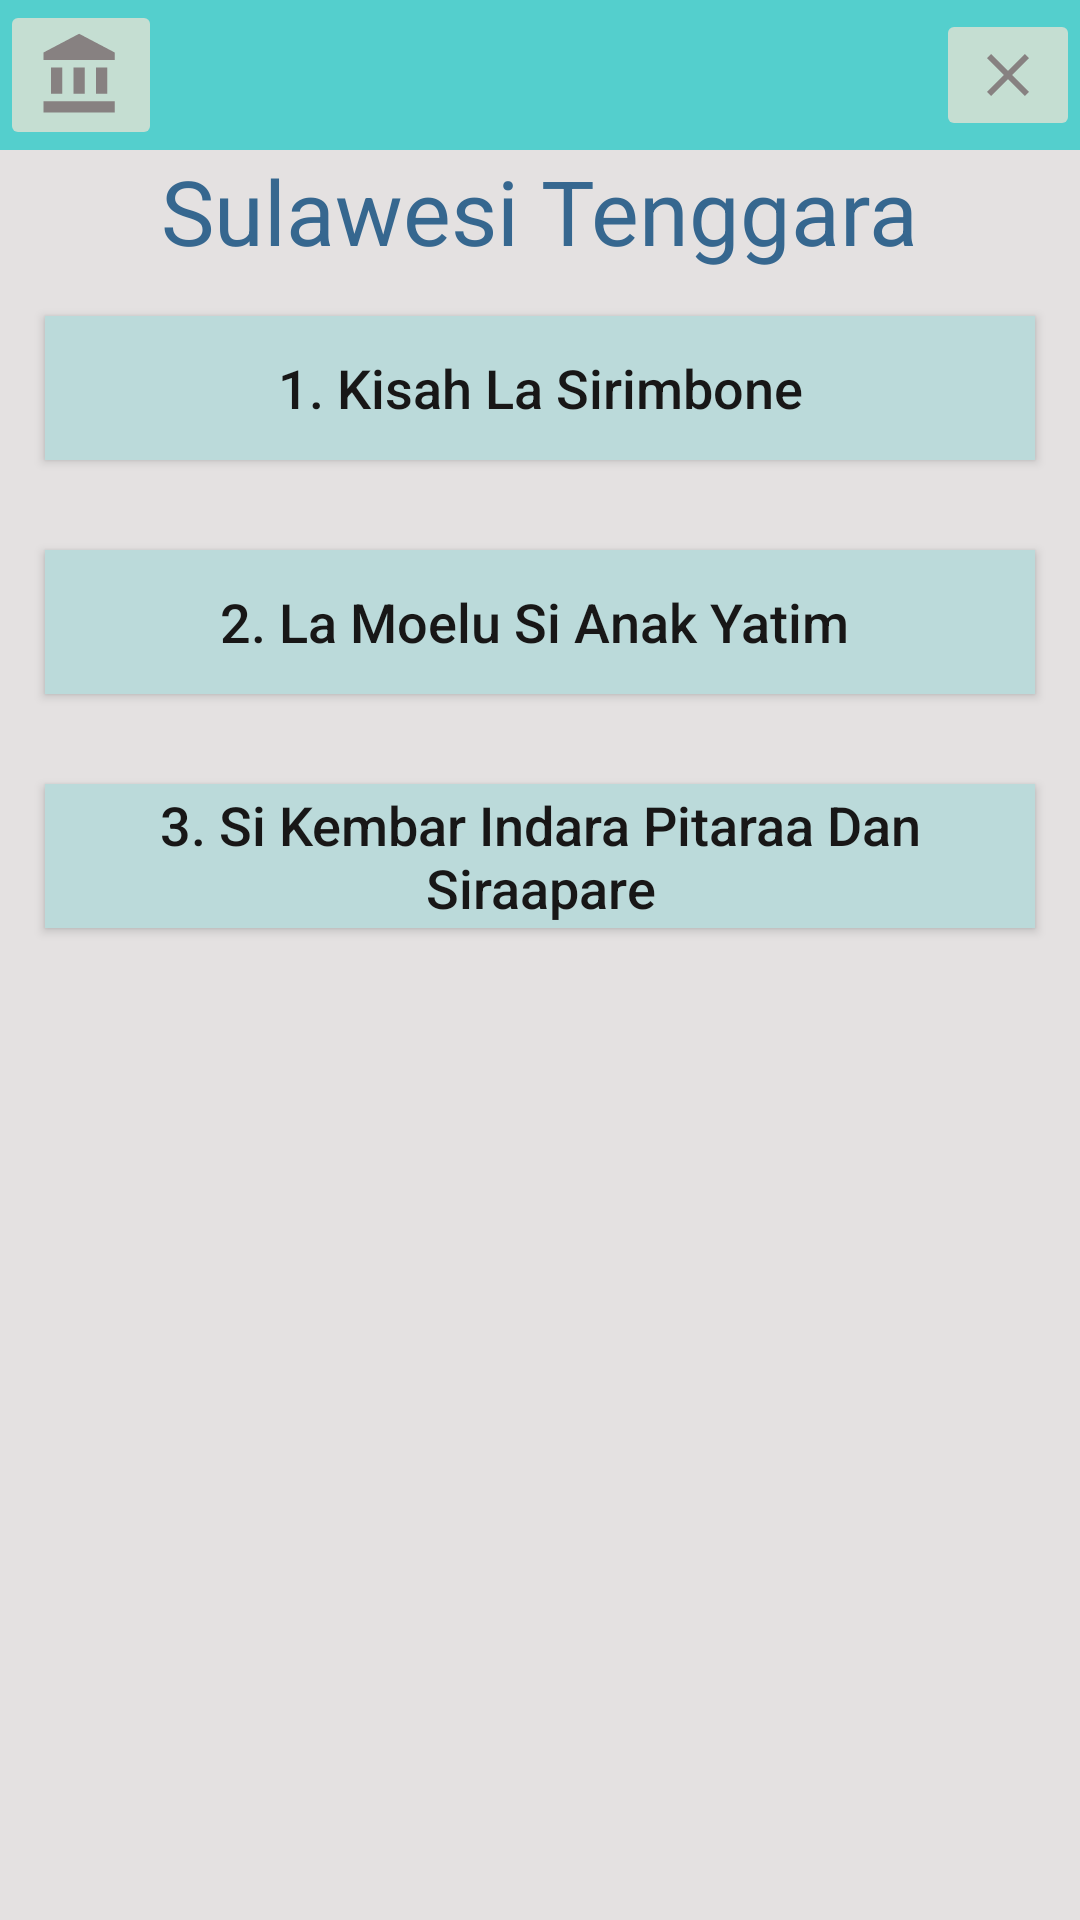

Icons on this 1080*1920 Android screen, each with its box as [x1,y1,x2,y2]:
account balance: [12,18,150,132]
close: [948,27,1068,123]
